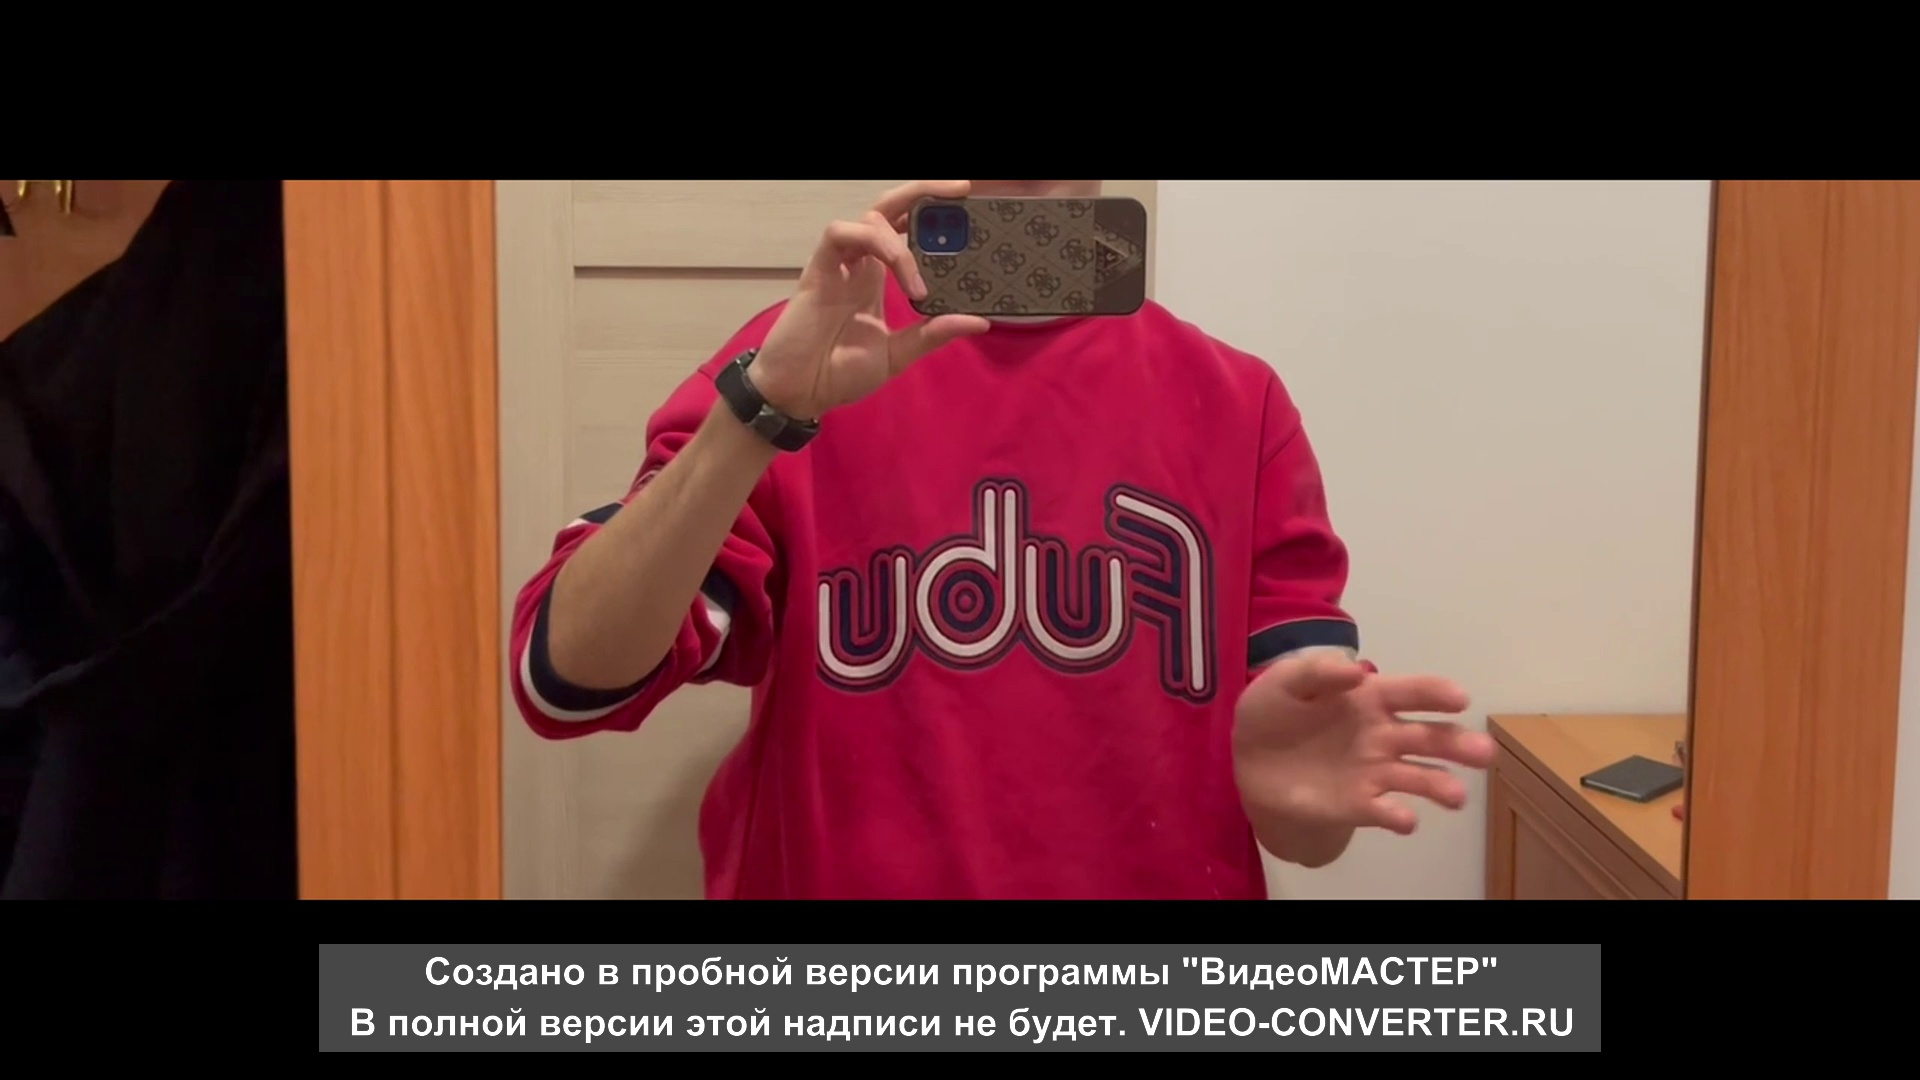Ладонь: (1230, 647, 1497, 836)
